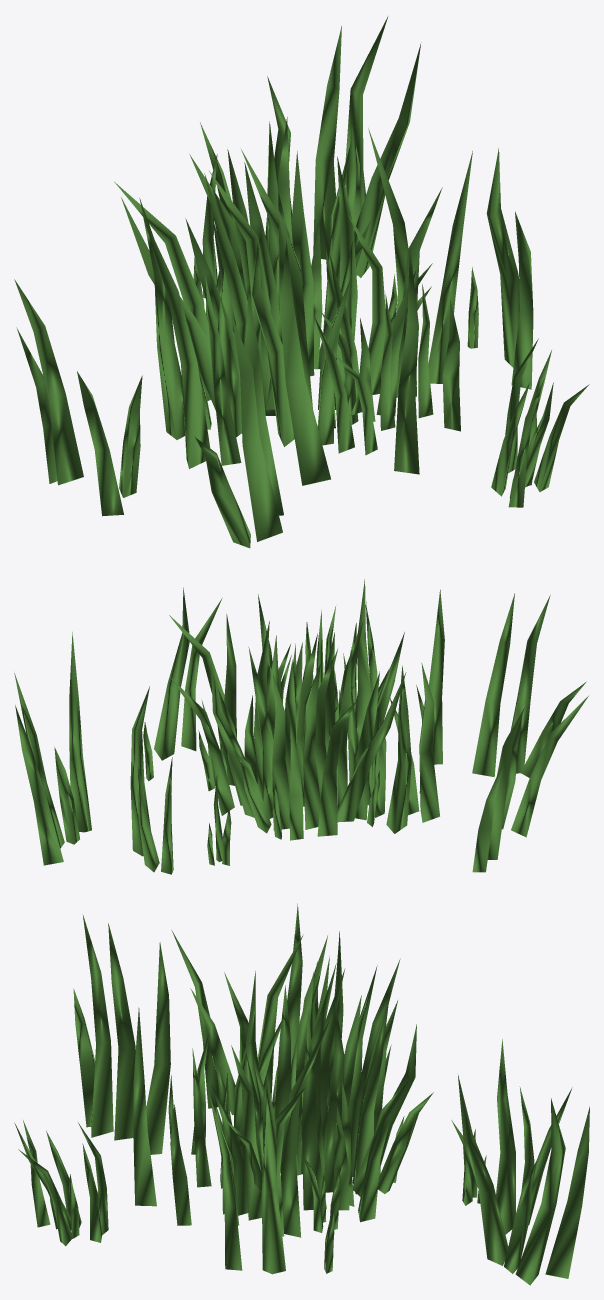
File: grass_green.glb
3 renders of one model, top to bottom at view 1: azimuth 30°, elevation 25°; view 2: azimuth 150°, elevation 25°; view 3: azimuth 270°, elevation 25°, orthographic. The views are drawn at different scales.
Visible parts, largest first — view 1: group1744197509, group1681983211, group1697339476, group443349435, group1255547812, group678362861, group908757786, group54891894, group2043014497, group208637188, group2019195407, group1825840008 (+48 smaller); view 2: group343340000, group2043014497, group908757786, group54891894, group1255547812, group612556706, group1697339476, group277299665, group902223660, group1681983211, group46854911, group228620189 (+37 smaller); view 3: group343340000, group1681983211, group1744197509, group54891894, group1661925368, group2043014497, group252032136, group1255547812, group678362861, group1101659140, group619381689, group1072724566 (+44 smaller).
Boxes of the visible parts, bbox=[...] form: group1744197509: bbox=[279, 241, 330, 485]; group1681983211: bbox=[232, 316, 282, 541]; group1697339476: bbox=[143, 215, 210, 468]; group443349435: bbox=[14, 279, 83, 485]; group1255547812: bbox=[313, 25, 341, 259]; group678362861: bbox=[394, 246, 419, 474]; group908757786: bbox=[139, 198, 184, 439]; group54891894: bbox=[486, 148, 519, 367]; group2043014497: bbox=[354, 42, 421, 277]; group208637188: bbox=[428, 151, 472, 383]; group2019195407: bbox=[250, 243, 294, 446]; group1825840008: bbox=[205, 275, 241, 465]; group343340000: bbox=[472, 593, 514, 777]; group2043014497: bbox=[69, 632, 91, 832]; group908757786: bbox=[386, 665, 411, 833]; group54891894: bbox=[154, 587, 189, 760]; group1255547812: bbox=[15, 705, 63, 865]; group612556706: bbox=[303, 664, 320, 829]; group1697339476: bbox=[419, 663, 439, 822]; group277299665: bbox=[337, 672, 406, 822]; group902223660: bbox=[317, 701, 356, 836]; group1681983211: bbox=[510, 595, 550, 773]; group46854911: bbox=[272, 674, 289, 830]; group228620189: bbox=[511, 696, 588, 837]; group343340000: bbox=[108, 923, 135, 1140]; group1681983211: bbox=[82, 914, 113, 1137]; group1744197509: bbox=[146, 942, 170, 1154]; group54891894: bbox=[261, 1072, 285, 1274]; group1661925368: bbox=[515, 1098, 565, 1285]; group2043014497: bbox=[458, 1075, 508, 1265]; group252032136: bbox=[281, 1020, 329, 1237]; group1255547812: bbox=[545, 1106, 589, 1278]; group678362861: bbox=[133, 1007, 156, 1206]; group1101659140: bbox=[496, 1039, 515, 1234]; group619381689: bbox=[302, 1008, 326, 1210]; group1072724566: bbox=[352, 996, 389, 1194].
Size of the model in its own units: 0.5831 by 0.2873 by 0.6368.
